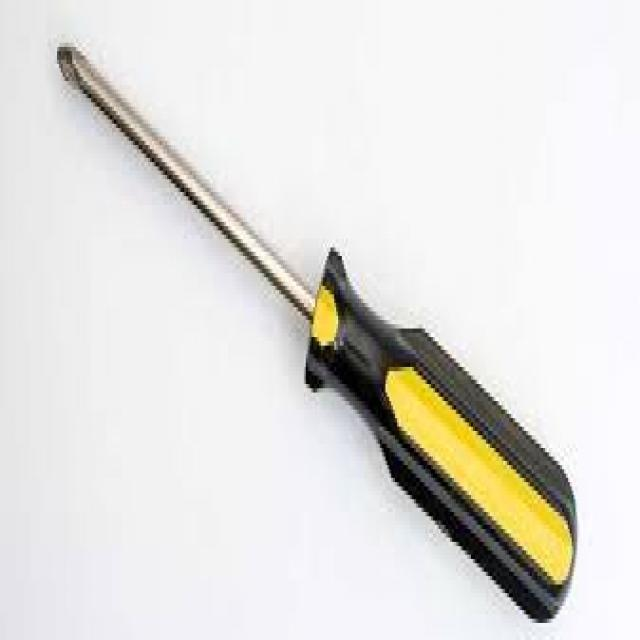screwdriver: (55, 42, 579, 624)
